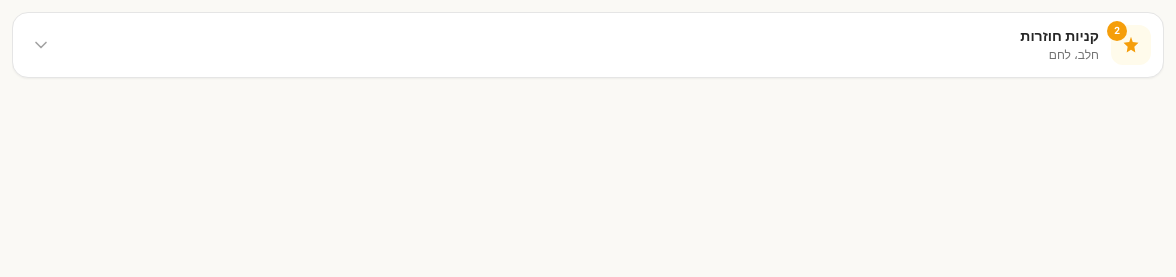
Test case: RepeatSuggestions › displays category emoji for each suggestion when expanded
Click the button "2 קניות חוזרות חלב، לחם" at (1131, 45), box [13,13,1163,77]
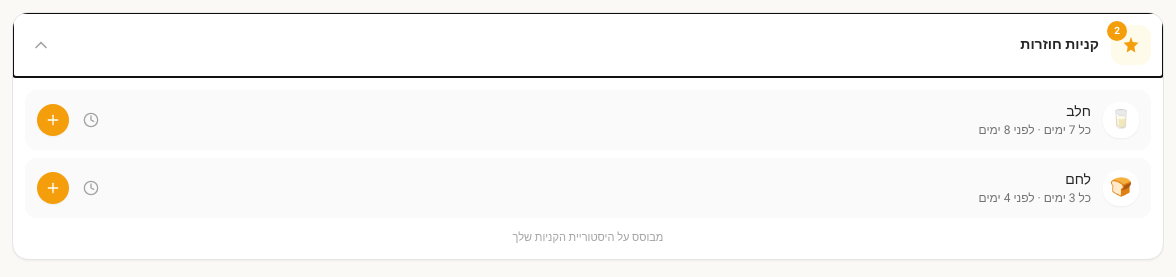
Expected: the text "🥛" is shown, [1103,102,1139,138]
Expected: the text "🍞" is shown, [1103,170,1139,206]
